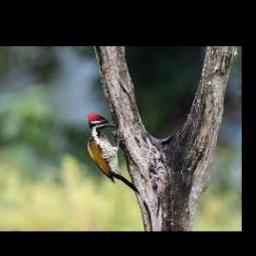Woodpecker: (88, 114, 140, 193)
